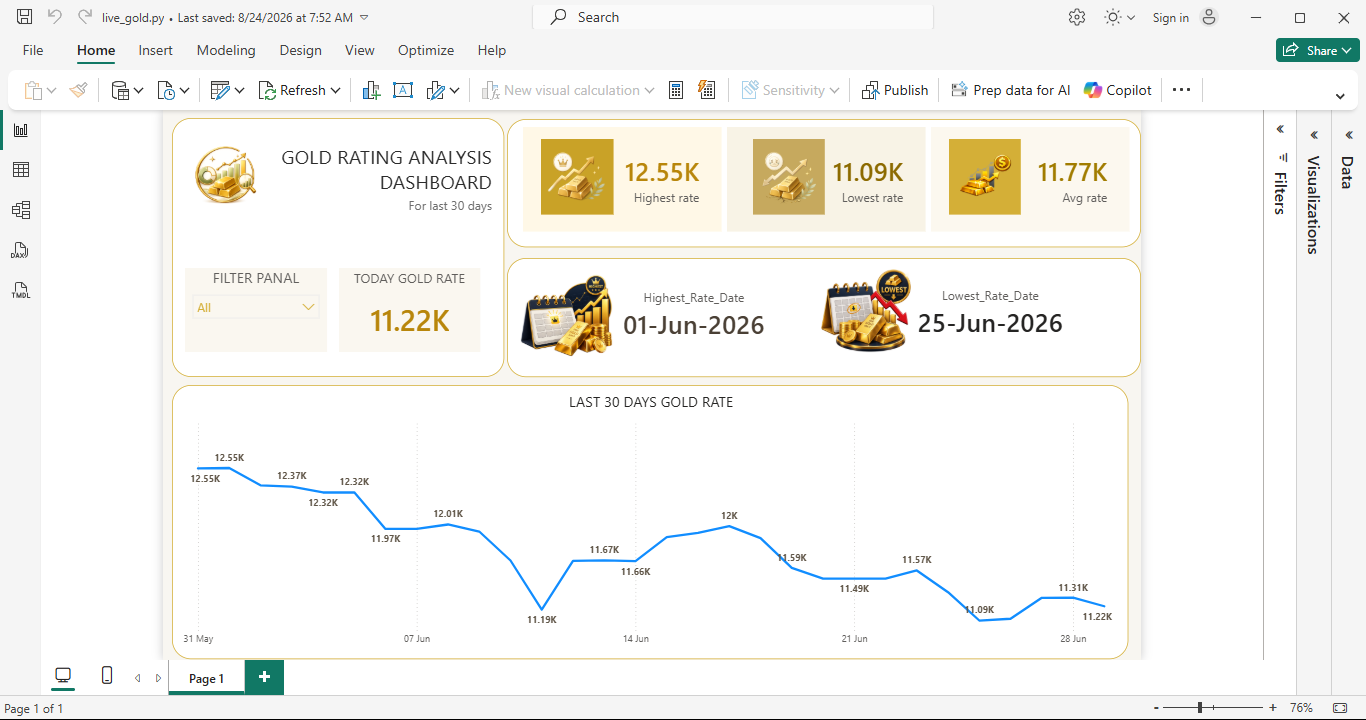

The dashboard page shown, as its layout file describes it:
{"tool":"powerbi","page":{"name":"Page 1","canvas":[1280,720],"ordinal":0},"visuals":[{"type":"areaChart","title":"LAST 30 DAYS GOLD RATE","fields":{"Category":["gold_last_30days (2).Date"],"Y":["Sum(gold_last_30days (2).Gold_1Gram_INR)"]},"box":[12.4,360.6,1252.5,359.2],"z":0},{"type":"shape","box":[12.4,11,434.9,338.6],"z":1000},{"type":"group","id":"g1","title":"Group 1","box":[450.1,12.4,829.9,167.9],"z":2000},{"type":"group","id":"g2","title":"Group 2","box":[450,193.7,829.9,155.5],"z":3000},{"type":"textbox","title":"GOLD RATING ANALYSIS DASHBOARD","box":[61.9,42.7,374.4,101.8],"z":4000},{"type":"slicer","title":"FILTER PANAL","fields":{"Values":["gold_last_30days.Date"]},"box":[28.9,206.5,185.8,110.1],"z":5000},{"type":"shape","box":[450.1,12.4,829.9,167.9],"z":6000,"group":"g1"},{"type":"image","box":[495.5,38.5,95,99.1],"z":6000},{"type":"shape","box":[450,193.7,829.9,155.5],"z":6000,"group":"g2"},{"type":"cardVisual","fields":{"Data":["gold_last_30days.Highest rate"]},"box":[470.7,22.6,260.1,137.1],"z":6500,"group":"g1"},{"type":"cardVisual","fields":{"Data":["gold_last_30days.Lowest rate"]},"box":[737.7,22.6,260,137.1],"z":7000,"group":"g1"},{"type":"image","box":[772.1,38.5,94,99.1],"z":7000},{"type":"cardVisual","fields":{"Data":["gold_last_30days.Avg rate"]},"box":[1004.7,22.6,260.1,137.1],"z":7500,"group":"g1"},{"type":"image","box":[28.9,38.5,101.8,99.1],"z":8000},{"type":"cardVisual","title":"LOWEST RATE DATE","fields":{"Data":["gold_last_30days.Lowest_Rate_Date"]},"box":[907,198.3,352.3,132.1],"z":8001,"group":"g2"},{"type":"cardVisual","title":"HIGHEST RATE DATE","fields":{"Data":["gold_last_30days.Highest_Rate_Date"]},"box":[534,201.1,322.1,132.1],"z":8501,"group":"g2"},{"type":"image","box":[1029.5,38.5,93.6,99.1],"z":9000},{"type":"image","box":[468,205.1,122.5,128],"z":10000},{"type":"cardVisual","title":"TODAY GOLD RATE","fields":{"Data":["gold_last_30days.Today_Gold_Rate"]},"box":[229.8,206.5,185,110.1],"z":11000},{"type":"image","box":[860.2,198.3,122.5,128],"z":11002,"group":"g2"}]}

Visuals, with their boxes on the page's 1280x720 design canvas (x1, y1, x2, y2). These are canvas units, not pixel positions in the 1366x720 screenshot, which may show the page scaled, cropped or inside an application window:
"LAST 30 DAYS GOLD RATE" areaChart: {"x1": 12, "y1": 361, "x2": 1265, "y2": 720}
shape: {"x1": 12, "y1": 11, "x2": 447, "y2": 350}
"Group 1" group: {"x1": 450, "y1": 12, "x2": 1280, "y2": 180}
"Group 2" group: {"x1": 450, "y1": 194, "x2": 1280, "y2": 349}
"GOLD RATING ANALYSIS DASHBOARD" textbox: {"x1": 62, "y1": 43, "x2": 436, "y2": 144}
"FILTER PANAL" slicer: {"x1": 29, "y1": 206, "x2": 215, "y2": 317}
shape: {"x1": 450, "y1": 12, "x2": 1280, "y2": 180}
image: {"x1": 496, "y1": 38, "x2": 590, "y2": 138}
shape: {"x1": 450, "y1": 194, "x2": 1280, "y2": 349}
cardVisual - gold_last_30days.Highest rate: {"x1": 471, "y1": 23, "x2": 731, "y2": 160}
cardVisual - gold_last_30days.Lowest rate: {"x1": 738, "y1": 23, "x2": 998, "y2": 160}
image: {"x1": 772, "y1": 38, "x2": 866, "y2": 138}
cardVisual - gold_last_30days.Avg rate: {"x1": 1005, "y1": 23, "x2": 1265, "y2": 160}
image: {"x1": 29, "y1": 38, "x2": 131, "y2": 138}
"LOWEST RATE DATE" cardVisual: {"x1": 907, "y1": 198, "x2": 1259, "y2": 330}
"HIGHEST RATE DATE" cardVisual: {"x1": 534, "y1": 201, "x2": 856, "y2": 333}
image: {"x1": 1030, "y1": 38, "x2": 1123, "y2": 138}
image: {"x1": 468, "y1": 205, "x2": 590, "y2": 333}
"TODAY GOLD RATE" cardVisual: {"x1": 230, "y1": 206, "x2": 415, "y2": 317}
image: {"x1": 860, "y1": 198, "x2": 983, "y2": 326}
